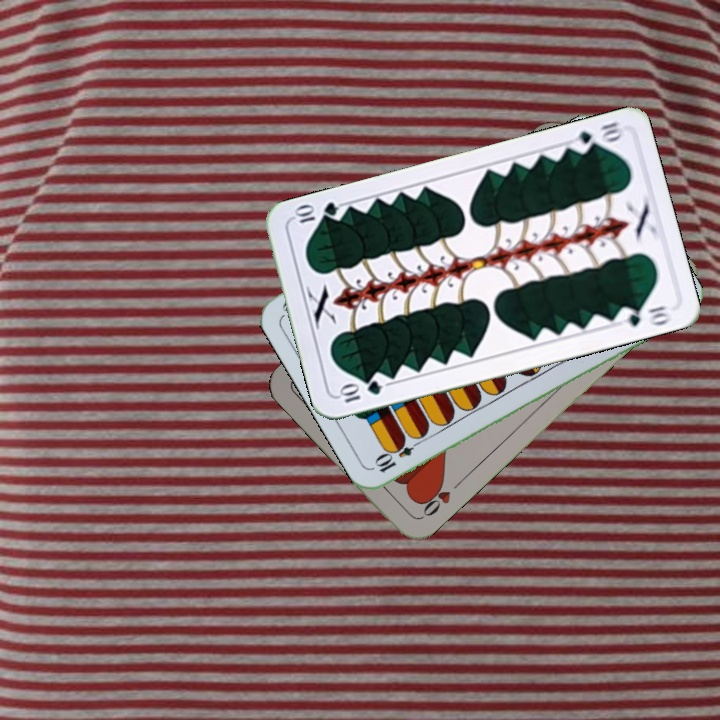E10: (371, 433, 426, 476)
G10: (569, 117, 625, 156), (334, 376, 384, 406)
HO: (415, 475, 465, 521)
